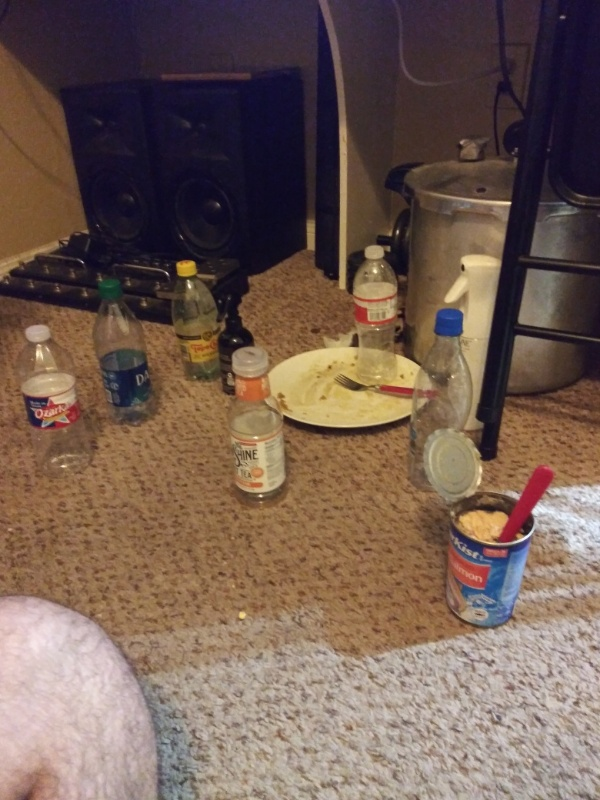bottle: (405, 306, 477, 493), (218, 344, 299, 507), (12, 320, 94, 480), (87, 274, 158, 422), (167, 255, 226, 384), (351, 244, 403, 384)
